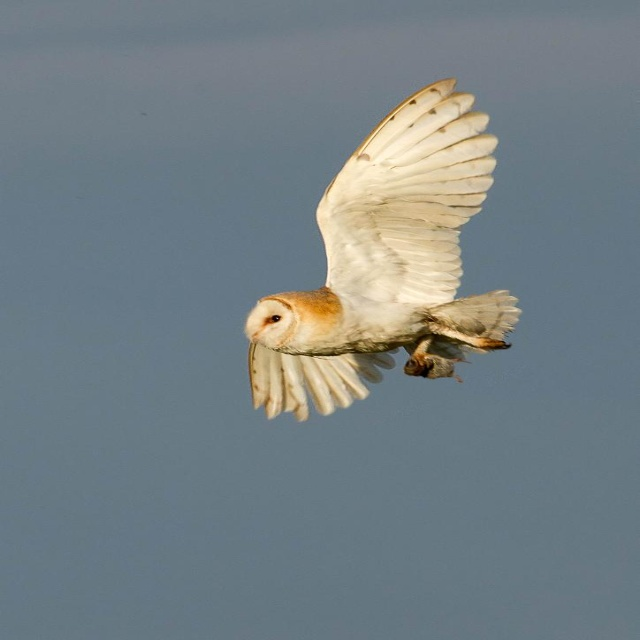Owl: (244, 74, 521, 425)
